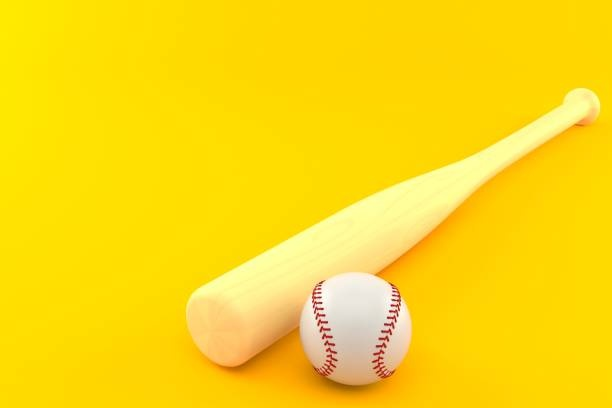bita: (182, 90, 587, 359)
